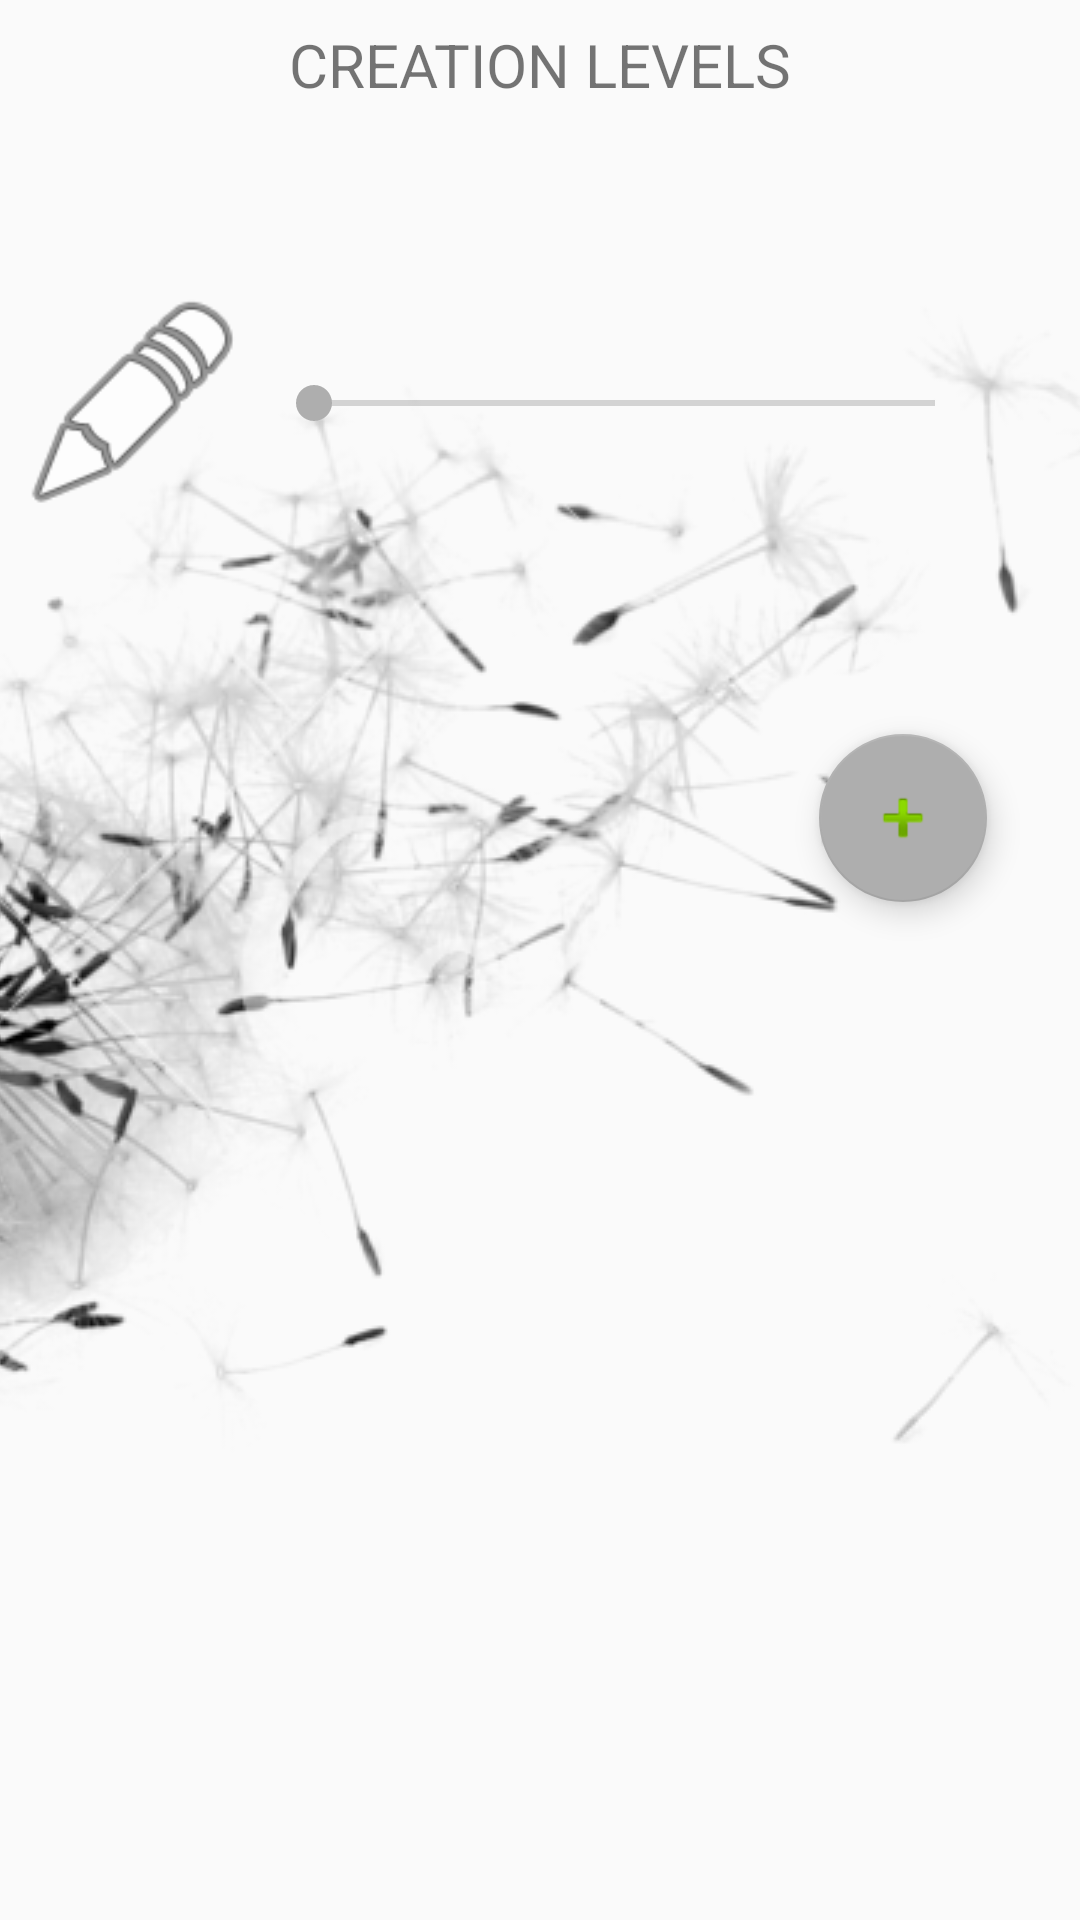

Icon bounding boxes for this 1080×1920 phone screenshot, format (x1, y1, x2, y2):
add: (819, 734, 987, 902)
edit: (32, 302, 233, 515)
